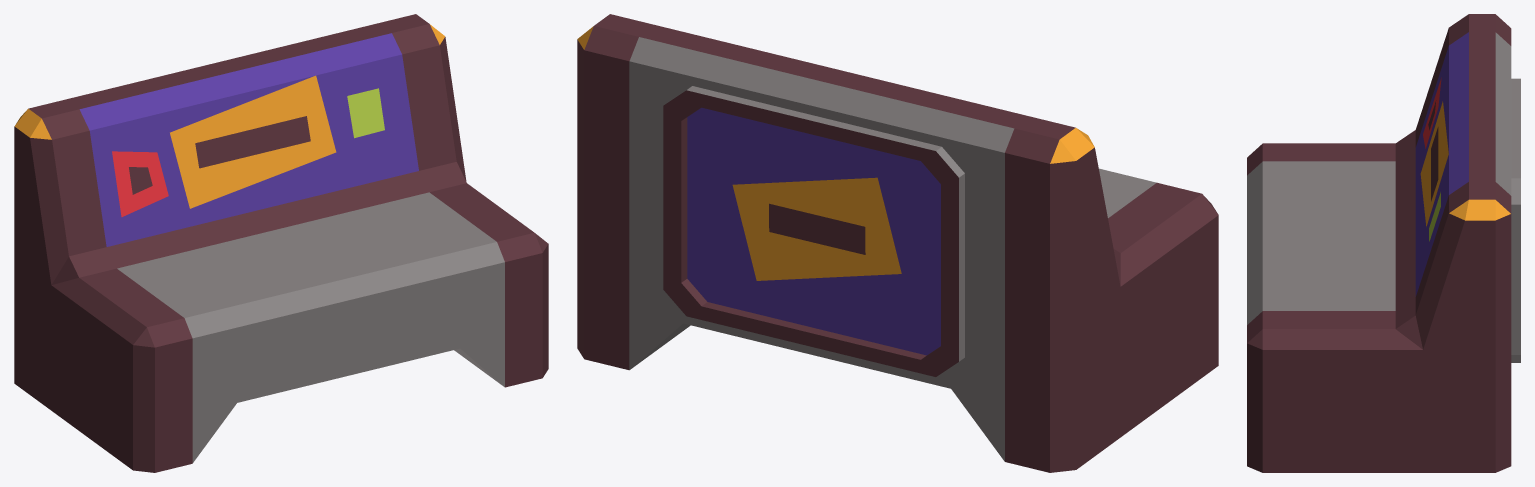
Rendered from scifi-bench-a.fbx.
The picture shows the model from 3 angles, left to right: view 1: azimuth 30°, elevation 25°; view 2: azimuth 150°, elevation 25°; view 3: azimuth 270°, elevation 25°; orthographic projection. The views are drawn at different scales.
Visible parts, largest first — view 1: scifi-bench-a; view 2: scifi-bench-a; view 3: scifi-bench-a.
Part boxes in pixels (left/top/right/bottom): scifi-bench-a: left=14, top=14, right=548, bottom=472; scifi-bench-a: left=577, top=14, right=1218, bottom=472; scifi-bench-a: left=1247, top=14, right=1520, bottom=472.
Bounding box in the file's own units: 1.65 × 1.03 × 0.9581.
